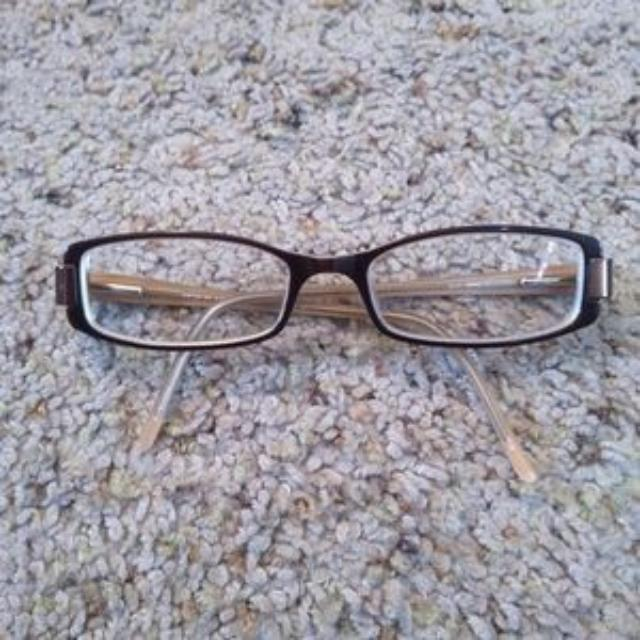glasses: (53, 222, 615, 482)
